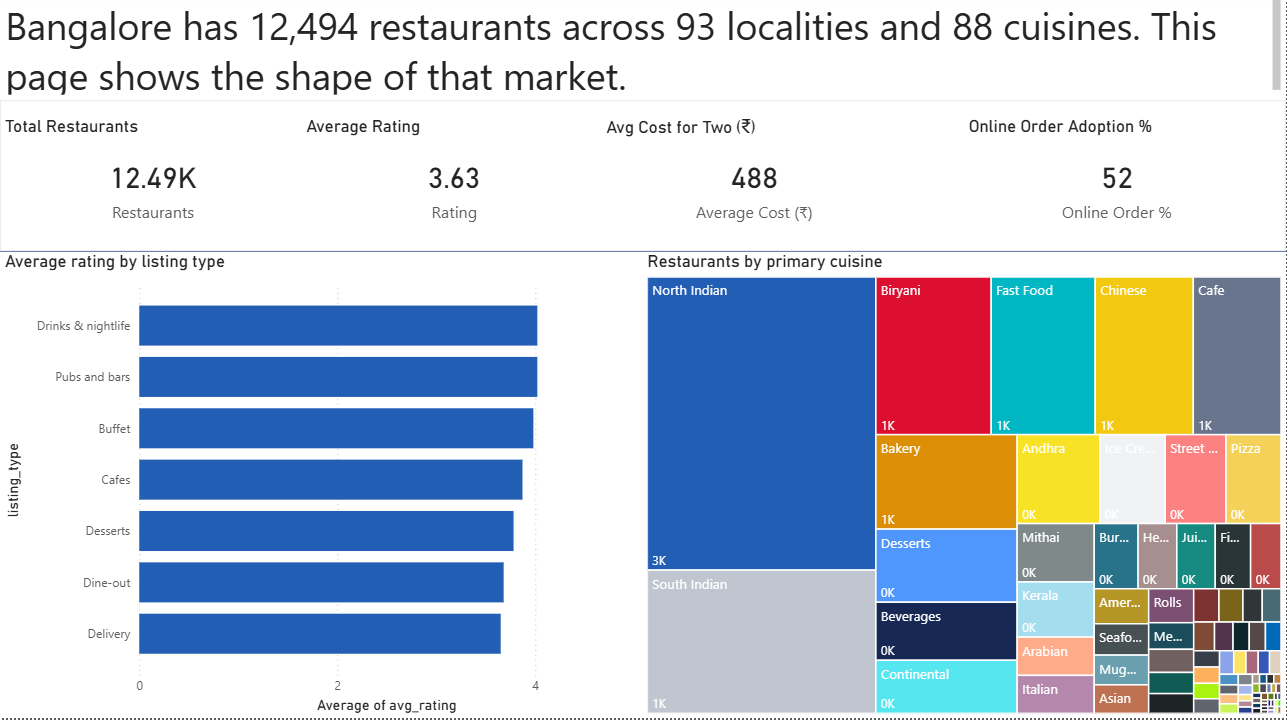

The page's visual inventory and layout, read from the dashboard file:
{"tool":"powerbi","page":{"name":"Landscape","canvas":[1280,720],"ordinal":0},"visuals":[{"type":"card","title":"Total Restaurants","fields":{"Values":["Min(kpi_summary.total_restaurants)"]},"box":[0,120.2,305,120.2],"z":0},{"type":"card","title":"Online Order Adoption %","fields":{"Values":["Sum(kpi_summary.online_order_pct)"]},"box":[959.5,120.2,305,120.2],"z":1000},{"type":"card","title":"Average Rating","fields":{"Values":["Sum(kpi_summary.avg_rating)"]},"box":[299.4,120.2,305,120.2],"z":2000},{"type":"card","title":"Avg Cost for Two (₹)","fields":{"Values":["Sum(kpi_summary.avg_cost_for_two)"]},"box":[598.8,120.2,305,120.2],"z":3000},{"type":"treemap","title":"Restaurants by primary cuisine","fields":{"Group":["city_cuisine_performance.primary_cuisine"],"Values":["Sum(city_cuisine_performance.restaurant_count)"]},"box":[639.3,255.2,640.5,465],"z":4000},{"type":"clusteredBarChart","title":"Average rating by listing type","fields":{"Category":["listing_type_effect.listing_type"],"Y":["Avg(listing_type_effect.avg_rating)"]},"box":[0,255.2,640.5,465],"z":5000},{"type":"shape","box":[0,104.3,1279.8,150.9],"z":6000},{"type":"textbox","box":[0,0,1279.8,104.3],"z":7000}]}

Visuals, with their boxes in screenshot pixels (x1, y1, x2, y2), scaled from the page's 1280x720 canvas onto the 1287x721 screenshot:
"Total Restaurants" card: pyautogui.locateOnScreen(0, 120, 307, 241)
"Online Order Adoption %" card: pyautogui.locateOnScreen(965, 120, 1271, 241)
"Average Rating" card: pyautogui.locateOnScreen(301, 120, 608, 241)
"Avg Cost for Two (₹)" card: pyautogui.locateOnScreen(602, 120, 909, 241)
"Restaurants by primary cuisine" treemap: pyautogui.locateOnScreen(643, 256, 1286, 720)
"Average rating by listing type" clusteredBarChart: pyautogui.locateOnScreen(0, 256, 644, 720)
shape: pyautogui.locateOnScreen(0, 104, 1286, 256)
textbox: pyautogui.locateOnScreen(0, 0, 1286, 104)
